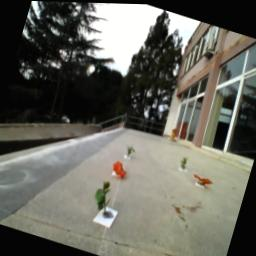herb: (90, 178, 116, 215), (125, 144, 137, 159), (180, 155, 191, 170)
wild: (110, 159, 132, 181), (192, 171, 215, 188)
